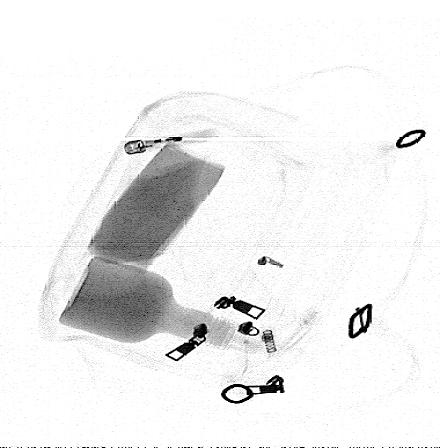Lighter: (123, 126, 224, 156)
